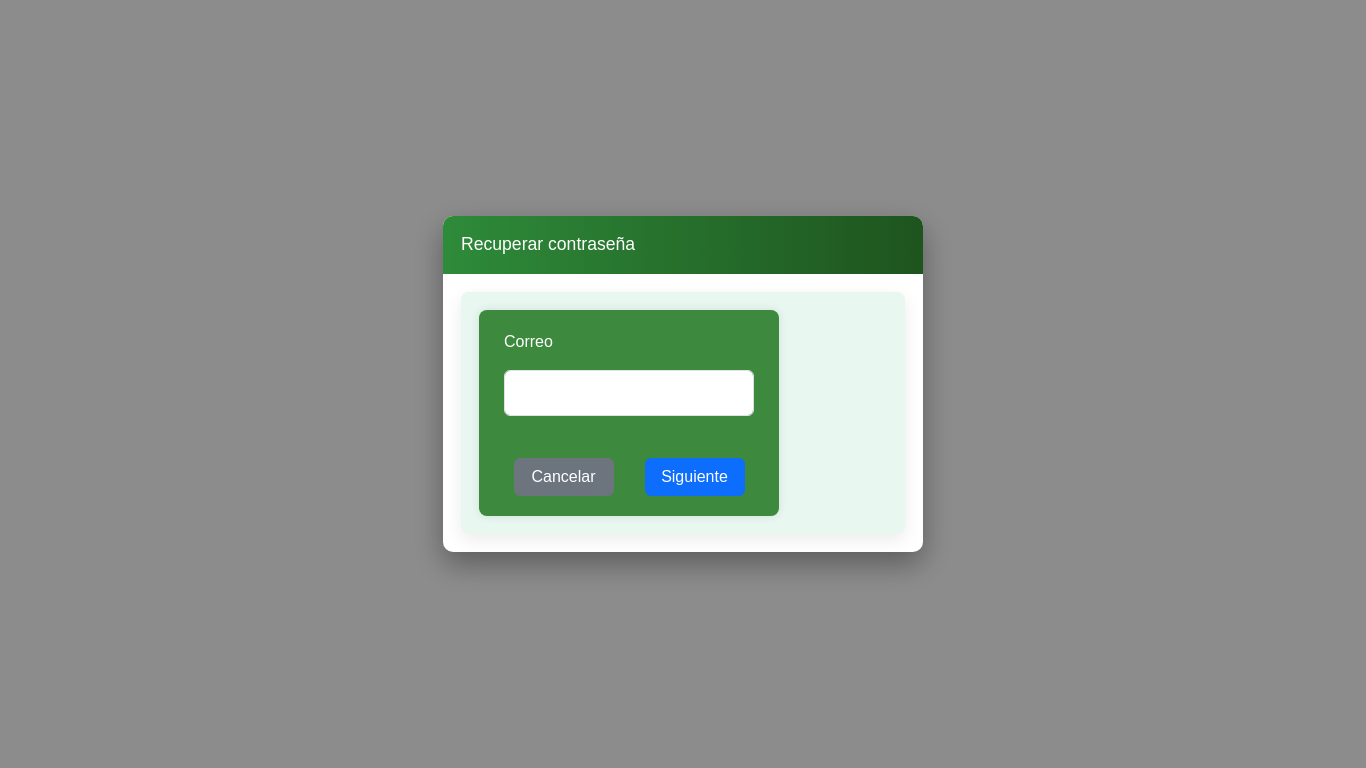
Test case: RecoverPasswordModal › solicita las preguntas de seguridad y avanza al siguiente paso
In the field labelled "Correo": (629, 393) [504,370,754,416], type "user@condor.cl"
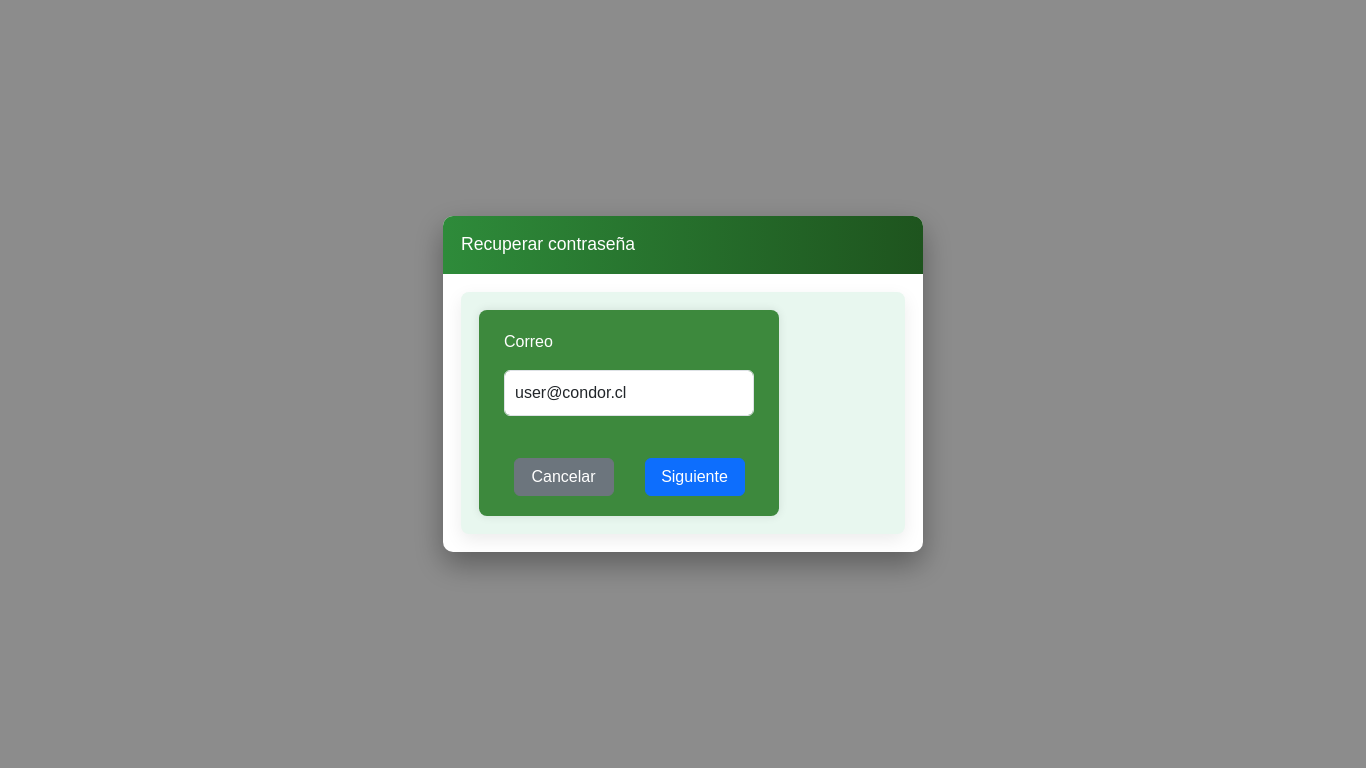
Click the button "Siguiente": (694, 477) [644,458,744,496]
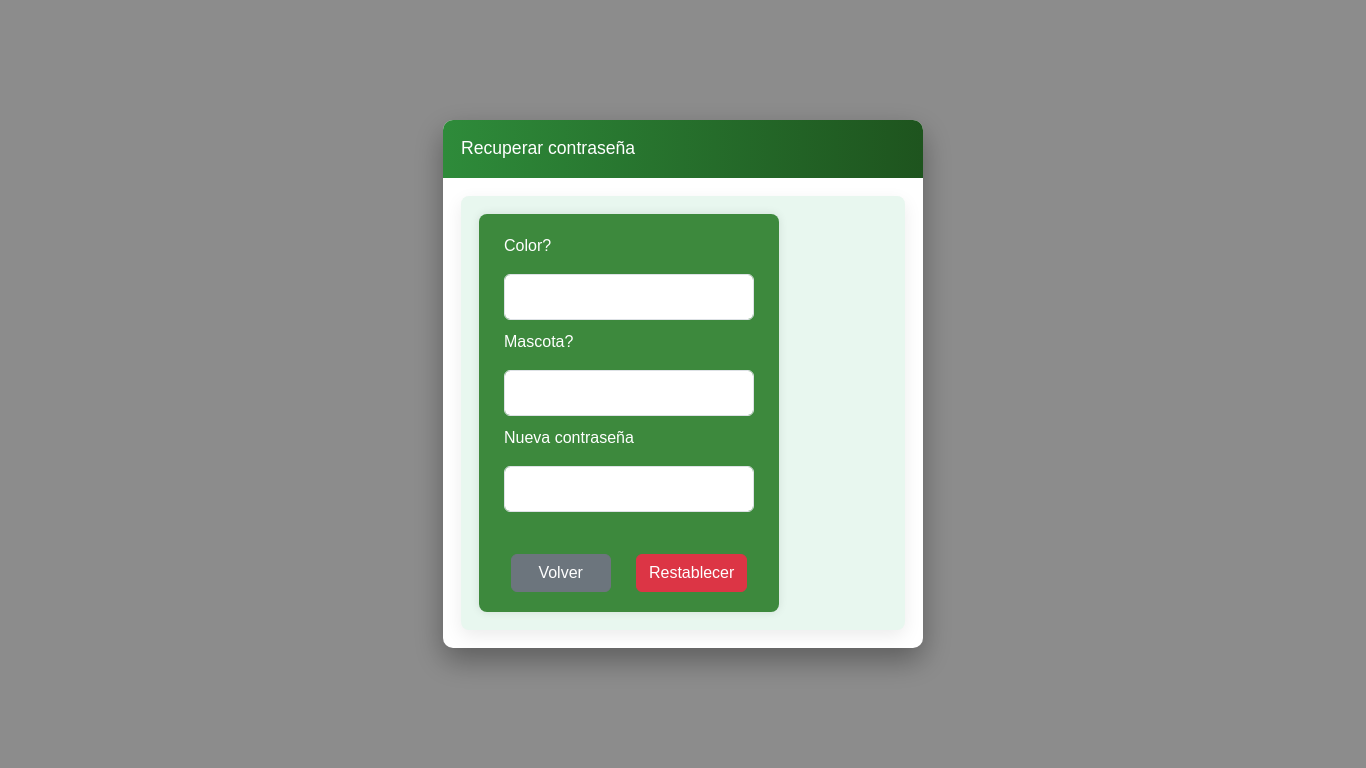
Result: the text "Color?" is shown at [504,237,551,254]
Result: the text "Mascota?" is shown at [504,333,573,350]
